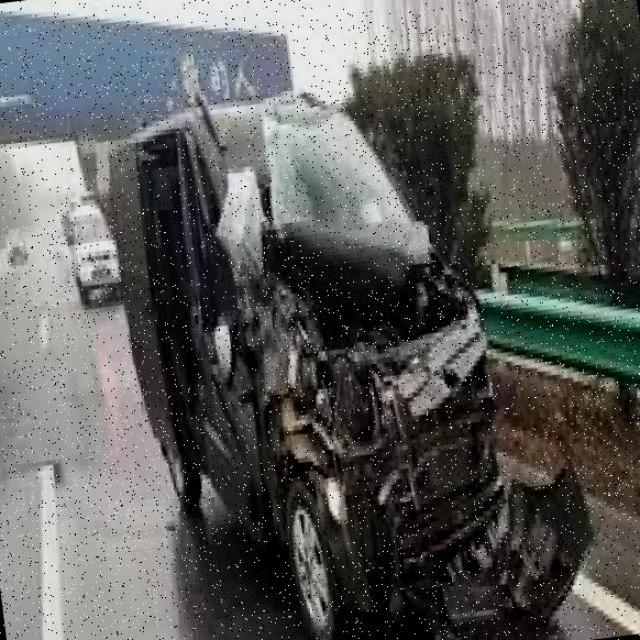accident: (88, 51, 562, 640)
